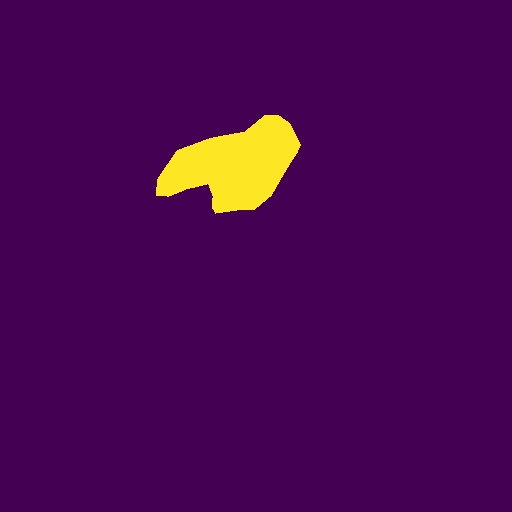Gliomia_tumour: (156, 115, 301, 214)
